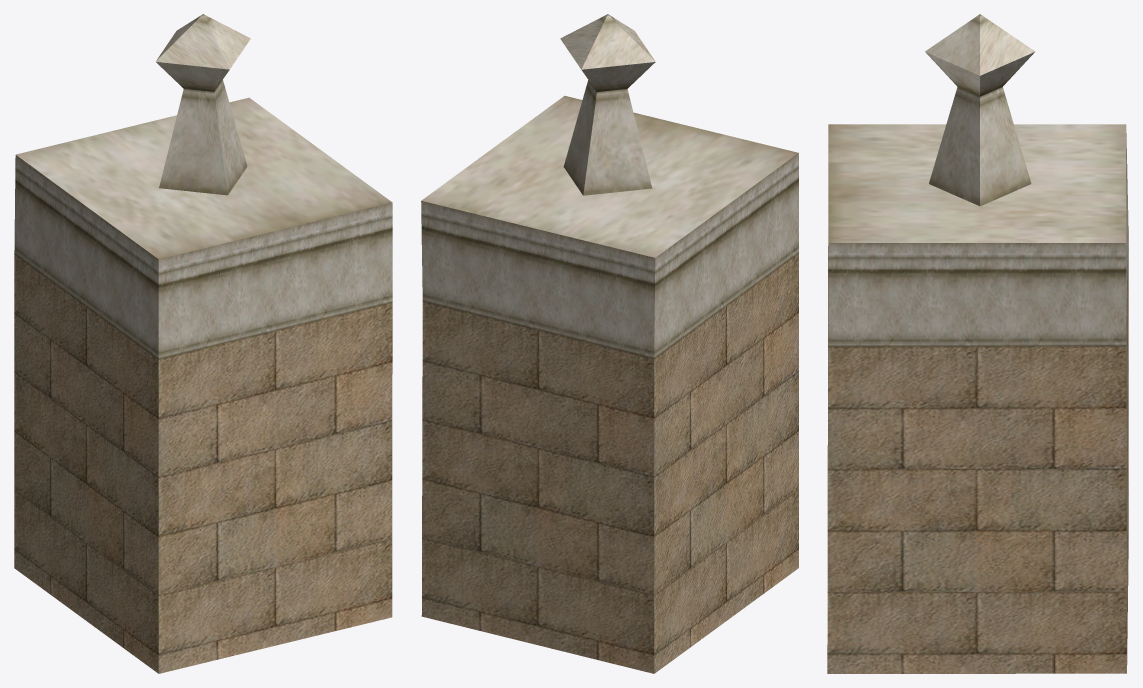
File: thm_nboo_imprv_pillar_s03_l2.fbx
3 views of the same model, side by side, from view 1: azimuth 30°, elevation 25°; view 2: azimuth 150°, elevation 25°; view 3: azimuth 270°, elevation 25° (orthographic). The views are drawn at different scales.
Parts seen in each view (by area): view 1: mesh_node; view 2: mesh_node; view 3: mesh_node.
Boxes of the visible parts, <box> form: mesh_node: <box>14,14,392,673</box>; mesh_node: <box>421,14,798,673</box>; mesh_node: <box>827,14,1128,673</box>.
Size of the model in its own units: 2.03 by 4.8 by 2.18.
1 material, 1 textured.
